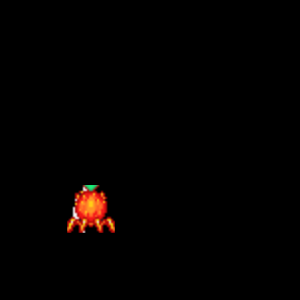Enemy: (67, 185, 115, 233)
